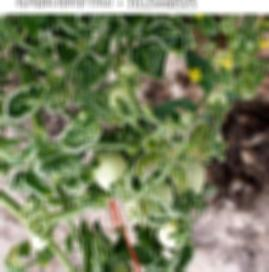Tomato leaf yellow virus: (56, 111, 106, 154), (3, 83, 50, 125), (60, 164, 109, 200), (185, 111, 213, 162), (36, 157, 86, 181), (37, 83, 73, 114)
